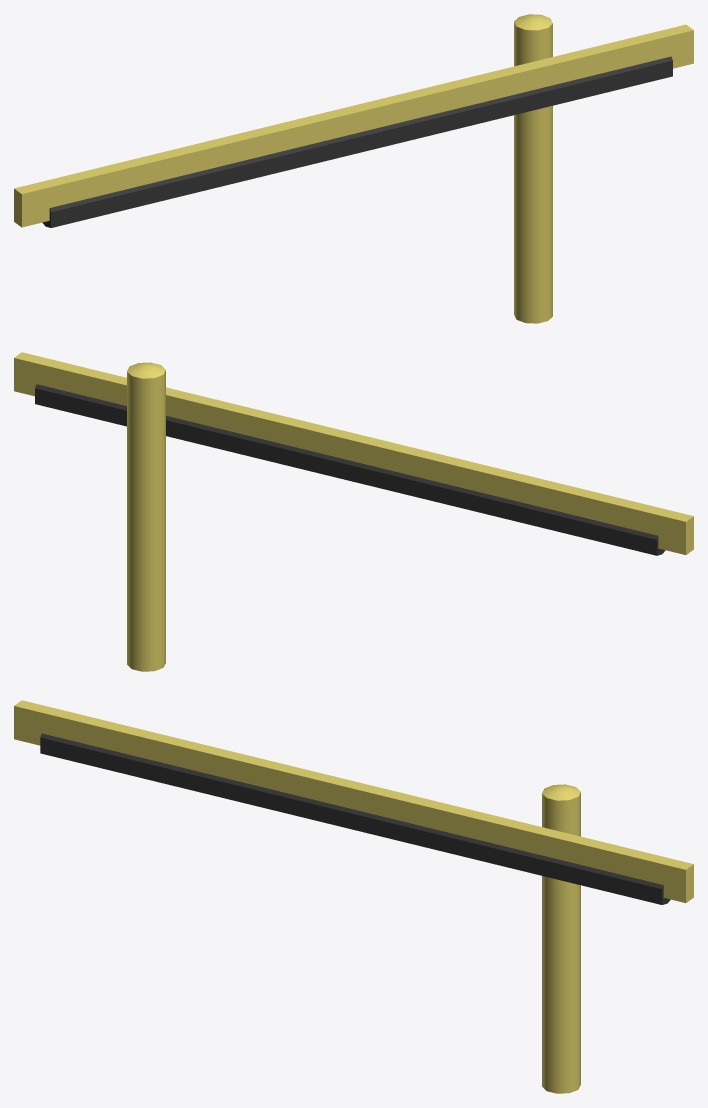
Rendered from ART-MOD-A-POLE-001.FBX.
3 renders of one model, top to bottom at view 1: azimuth 30°, elevation 25°; view 2: azimuth 150°, elevation 25°; view 3: azimuth 330°, elevation 25°, orthographic.
Visible parts, largest first — view 1: Cylinder001; view 2: Cylinder001; view 3: Cylinder001.
Part boxes in pixels (<box>): Cylinder001: <box>14,14,693,323</box>; Cylinder001: <box>14,352,693,671</box>; Cylinder001: <box>14,700,693,1093</box>.
Bounding box in the file's own units: 344 × 146 × 25.41.
